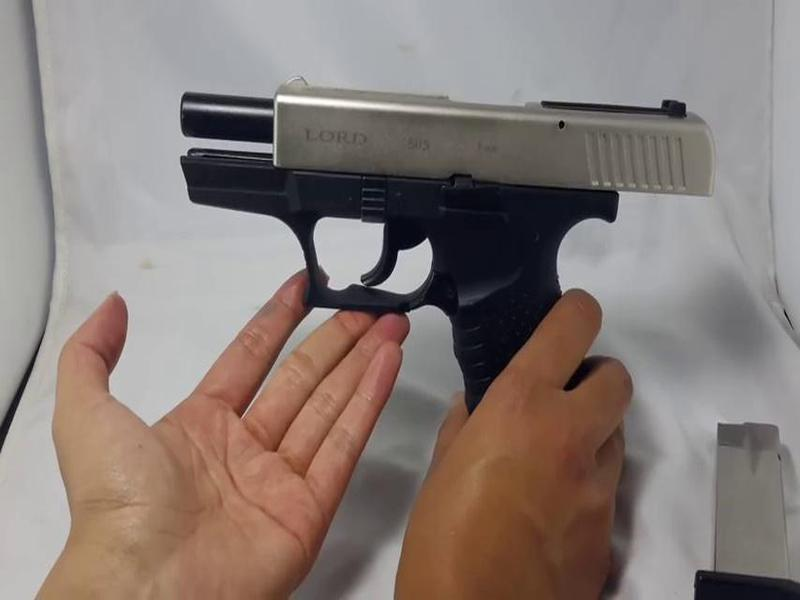Pistola: (176, 79, 718, 445)
